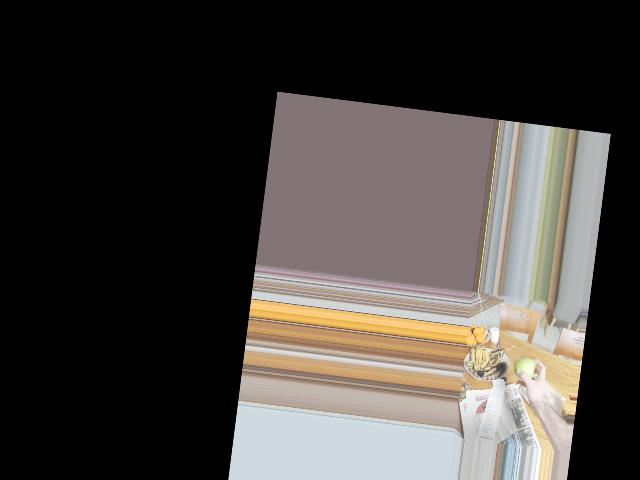apple: (513, 355, 536, 383)
